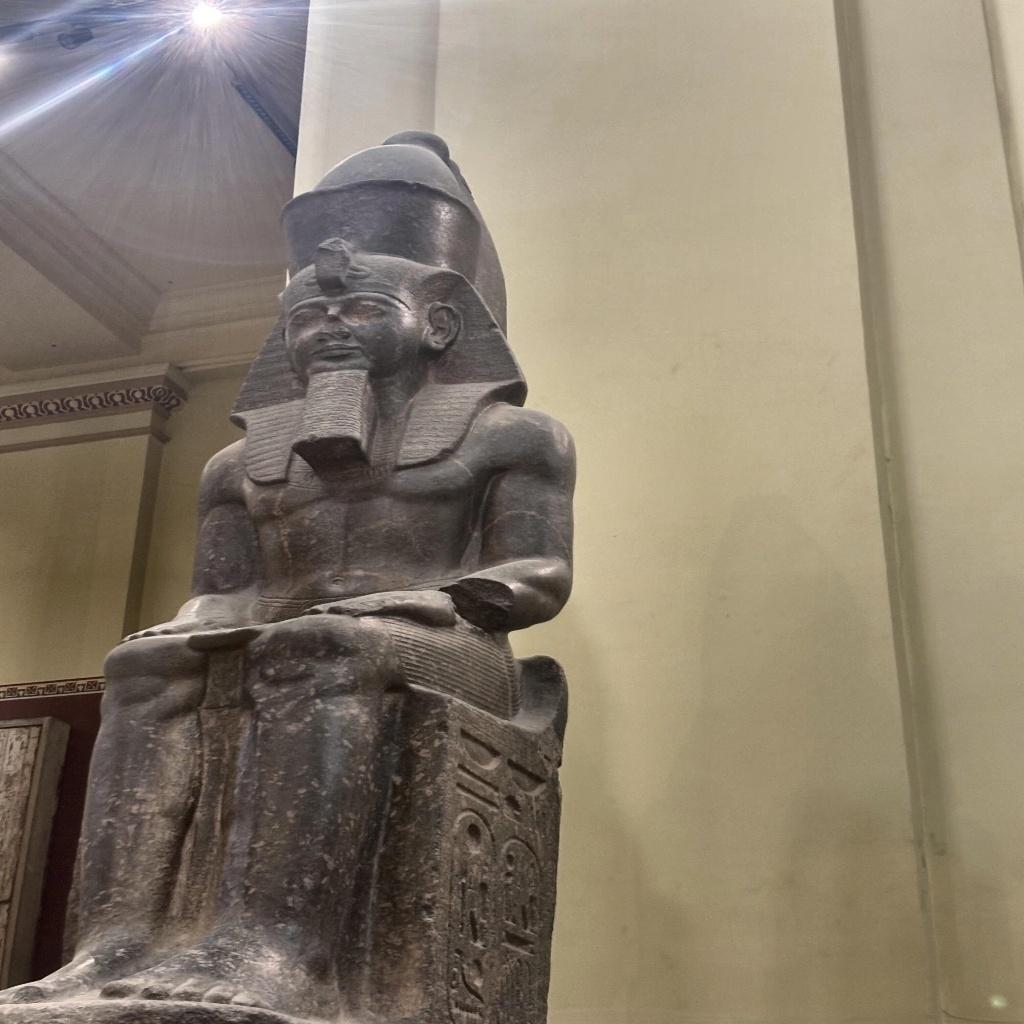Grey Granite of Ramesses II: (6, 128, 580, 1020)
